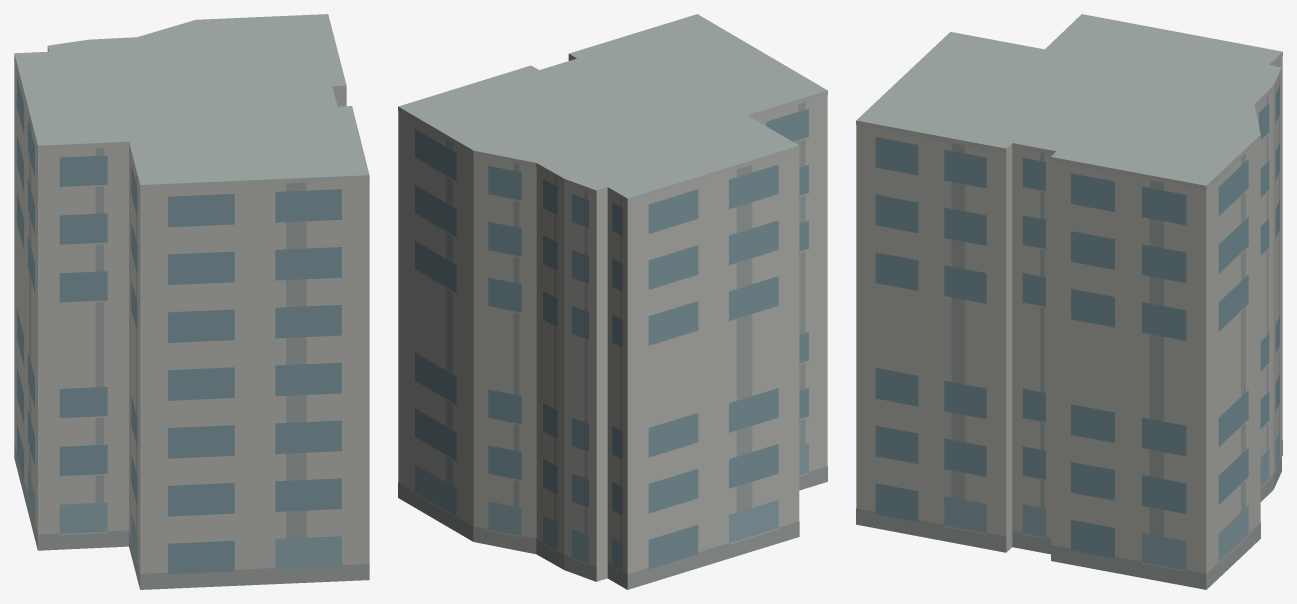
Rendered from survey-upis-32632721.glb.
3 renders of one model, left to right at view 1: azimuth 30°, elevation 25°; view 2: azimuth 150°, elevation 25°; view 3: azimuth 270°, elevation 25°, orthographic. The views are drawn at different scales.
Parts seen in each view (by area): view 1: survey-upis-32632721.tmp; view 2: survey-upis-32632721.tmp; view 3: survey-upis-32632721.tmp.
Boxes of the visible parts, <box> form: survey-upis-32632721.tmp: <box>14,14,369,589</box>; survey-upis-32632721.tmp: <box>398,14,827,589</box>; survey-upis-32632721.tmp: <box>856,14,1282,589</box>.
Size of the model in its own units: 19.47 by 21.35 by 20.44.
